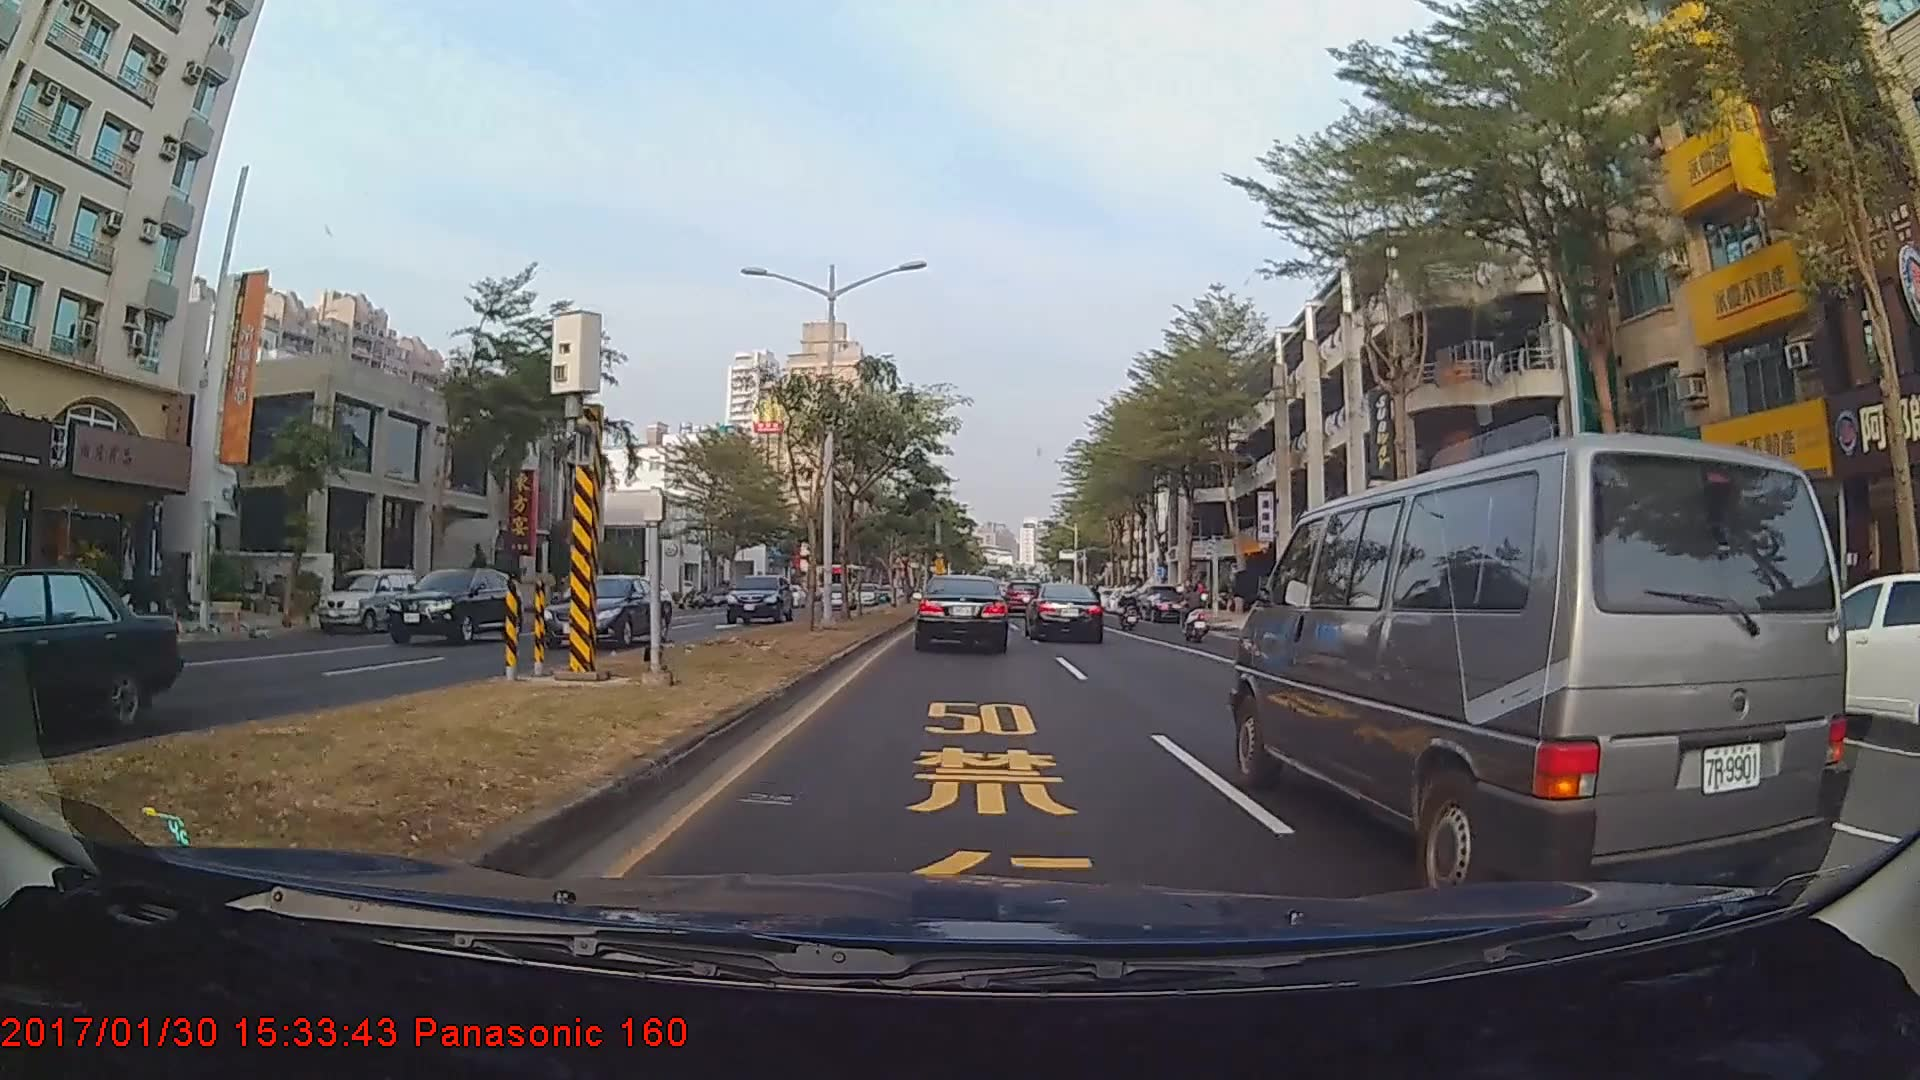rider: (1172, 580, 1216, 644)
vehicle: (1247, 417, 1845, 893), (0, 567, 185, 742), (379, 567, 523, 646), (537, 575, 670, 647), (915, 573, 1007, 653), (316, 568, 423, 634), (1026, 582, 1104, 644), (725, 572, 793, 622), (1133, 591, 1190, 622)
